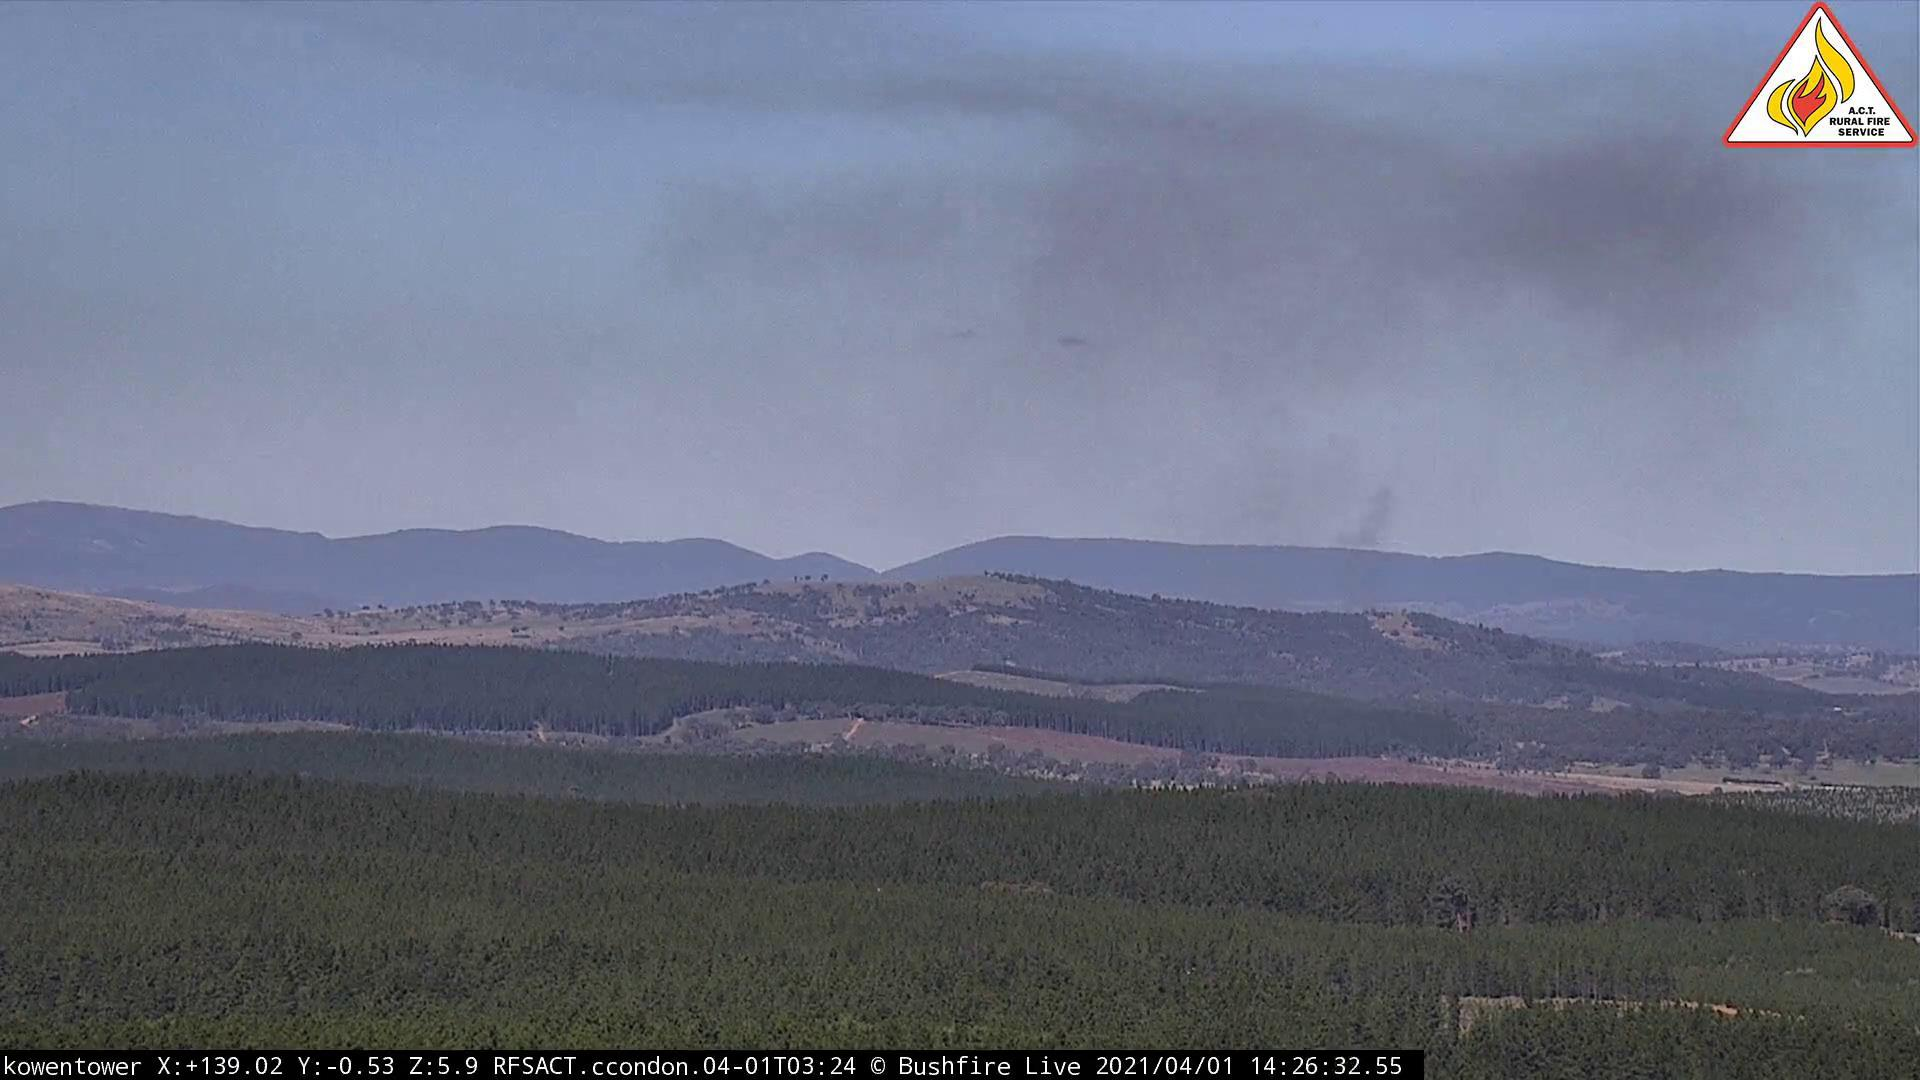Smoke: (771, 105, 1866, 597)
